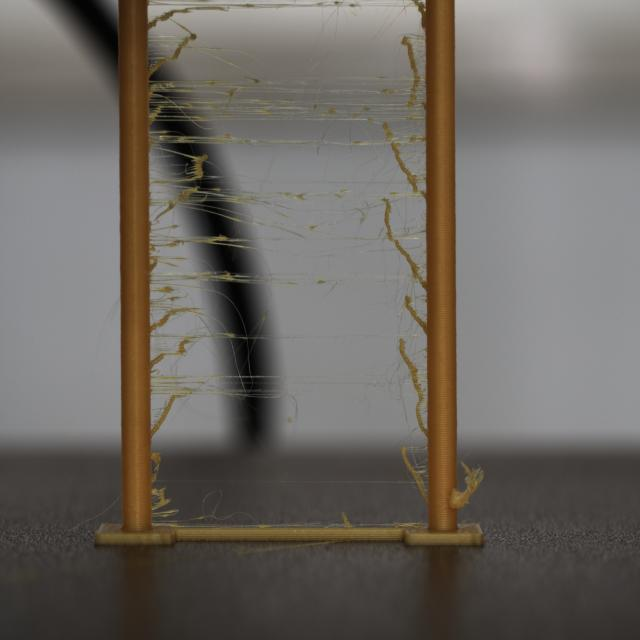Warping: (150, 2, 425, 445)
